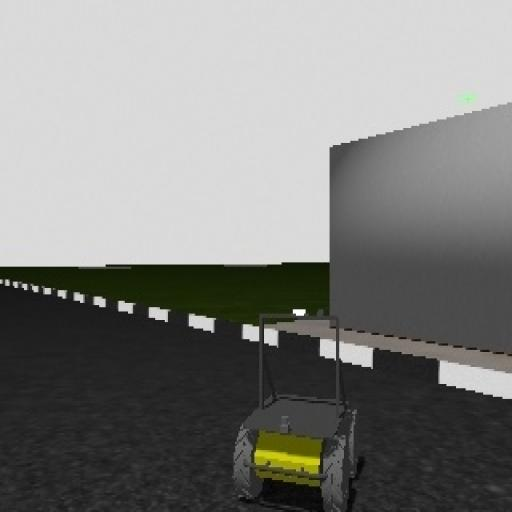huskya200: (221, 297, 362, 512)
